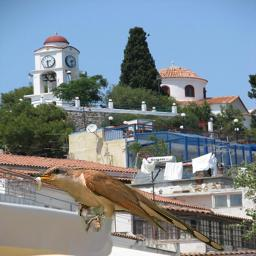Cuckoo: (30, 165, 226, 252)
